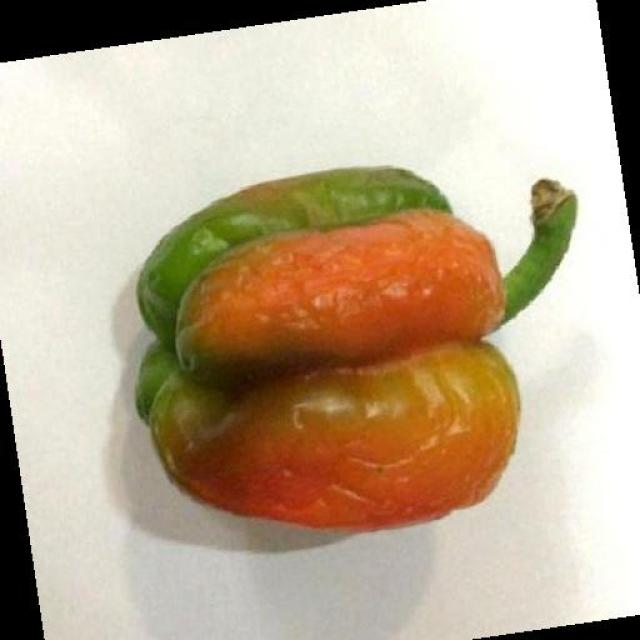Stale_Capsicum: (142, 176, 536, 520)
